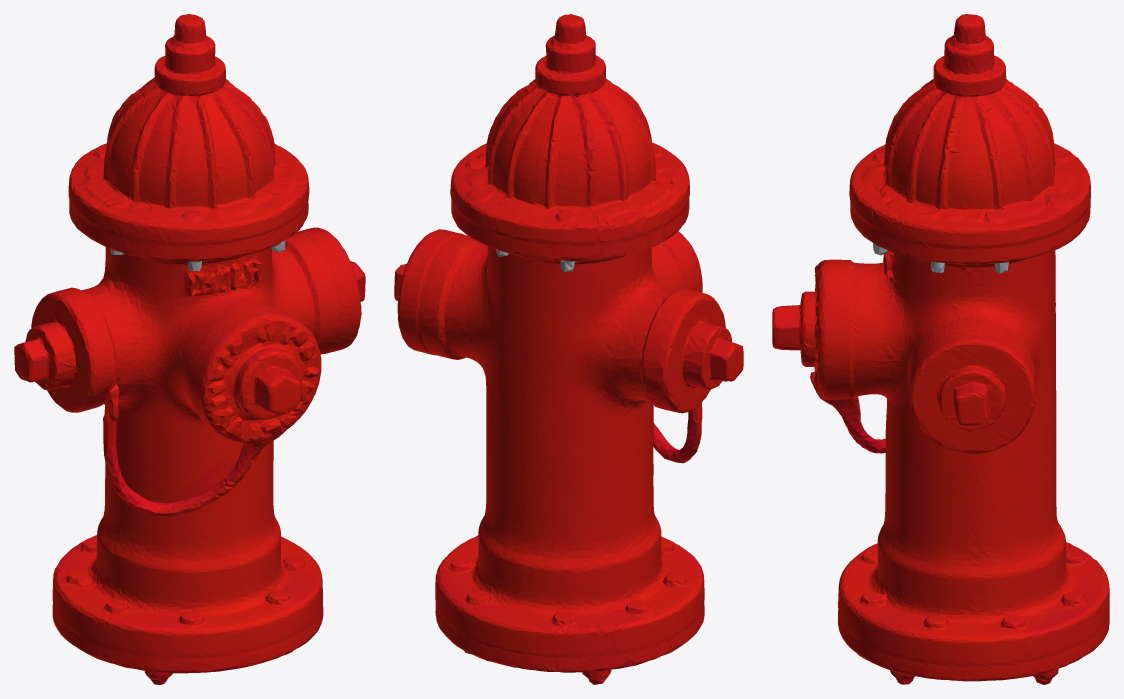
Rendered from fire-3.glb.
3 views of the same model, side by side, from view 1: azimuth 30°, elevation 25°; view 2: azimuth 150°, elevation 25°; view 3: azimuth 270°, elevation 25° (orthographic).
Parts seen in each view (by area): view 1: world; view 2: world; view 3: world.
Boxes of the visible parts, <box> form: world: <box>14,14,365,684</box>; world: <box>394,14,743,684</box>; world: <box>772,14,1109,684</box>.
Bounding box in the file's own units: 1.13 × 1.99 × 0.9644.
Materials: 1 (1 with a texture image).
